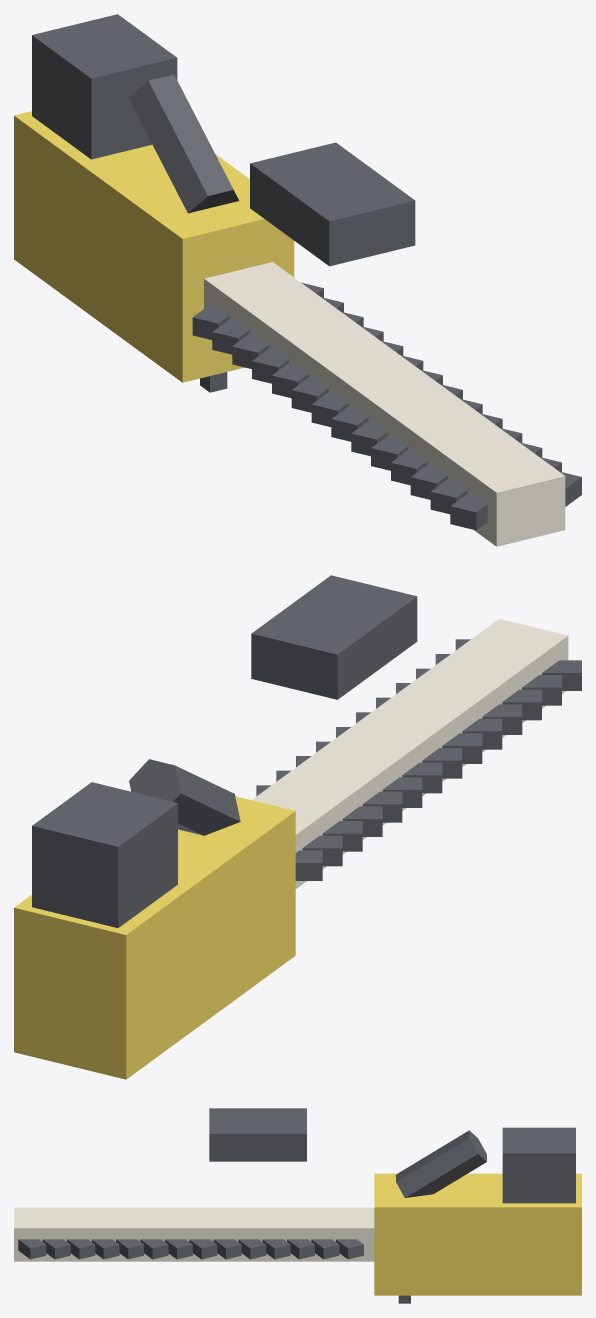
File: lawn-mowing-simulator-kit-hedge-trimmer-52616d25__27377.glb
3 renders of one model, top to bottom at view 1: azimuth 30°, elevation 25°; view 2: azimuth 150°, elevation 25°; view 3: azimuth 270°, elevation 25°, orthographic. The views are drawn at different scales.
Visible parts, largest first — view 1: hedge-trimmer; view 2: hedge-trimmer; view 3: hedge-trimmer.
Boxes of the visible parts, box(x1,y1,x2,y2) form: hedge-trimmer: box(14, 14, 581, 546); hedge-trimmer: box(14, 575, 581, 1079); hedge-trimmer: box(14, 1108, 581, 1303).
Size of the model in its own units: 0.1497 by 0.325 by 0.93.
